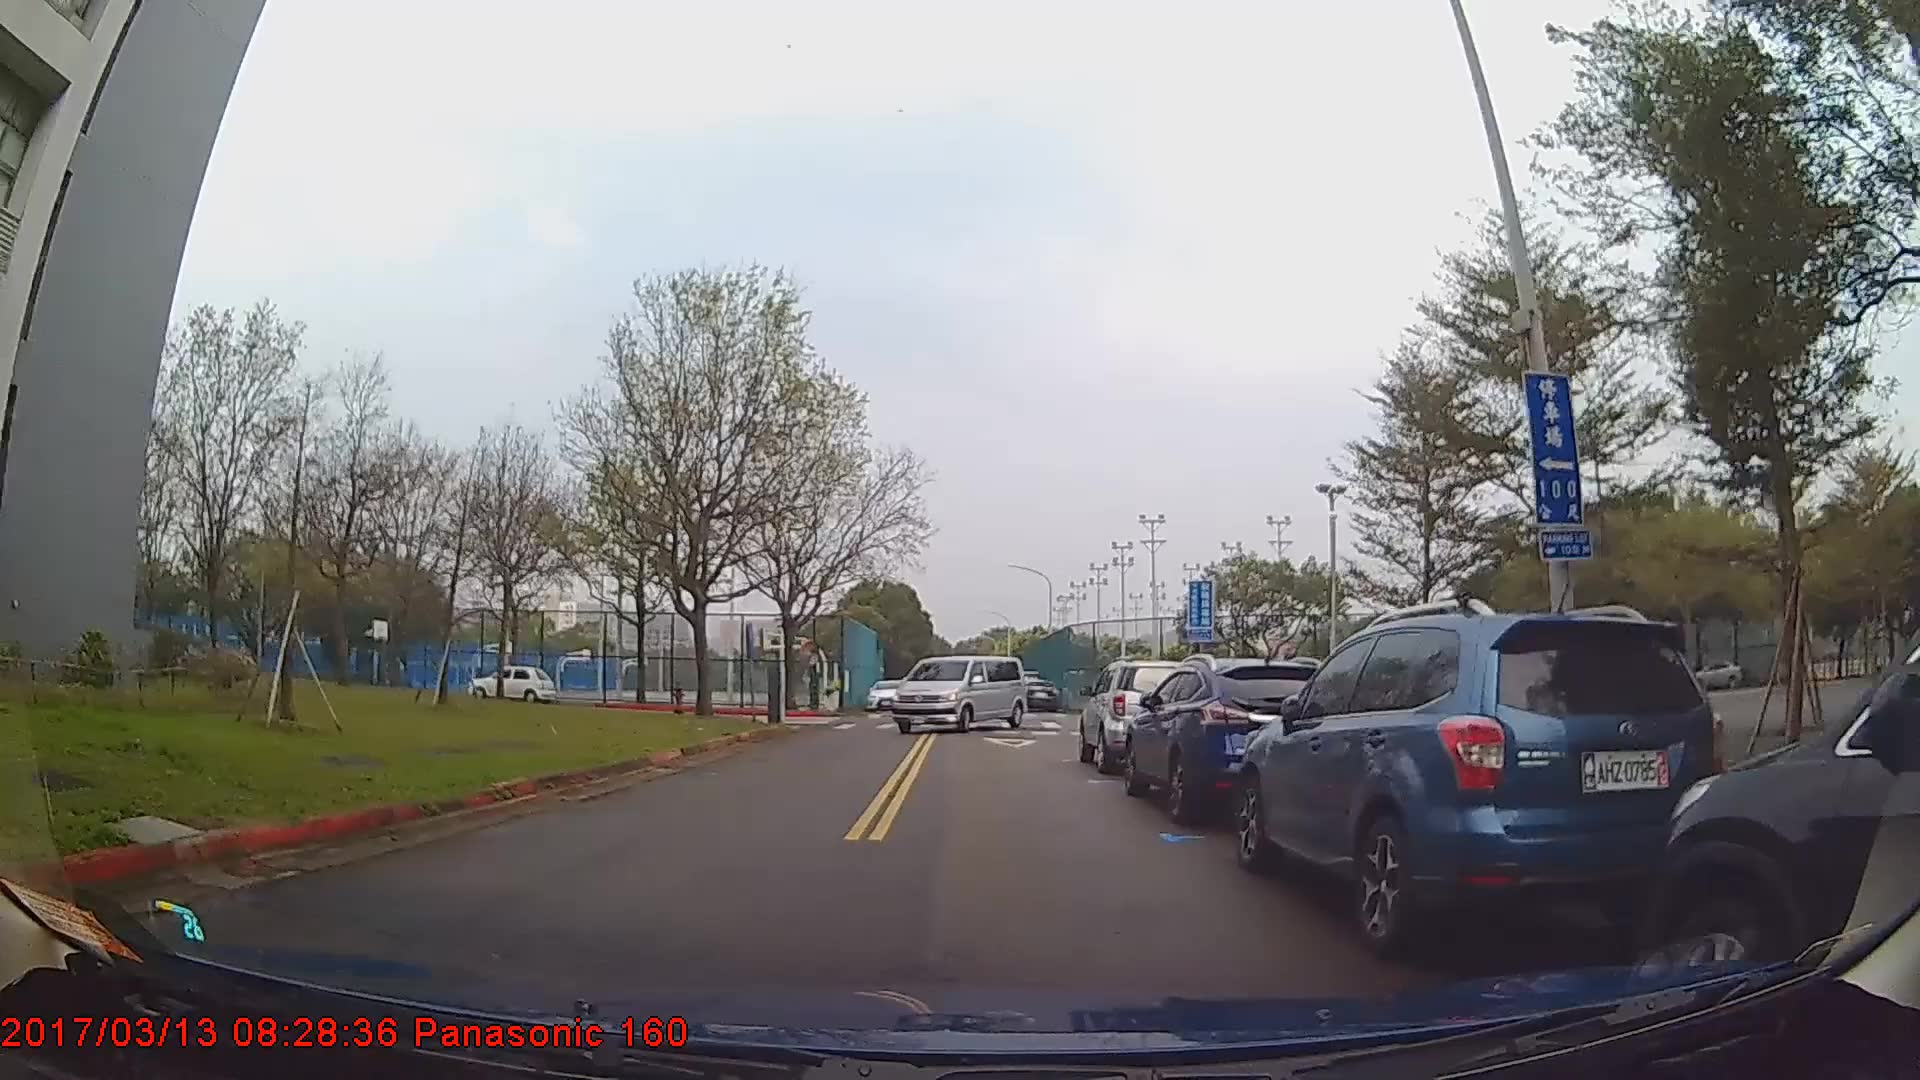vehicle: (1228, 613, 1727, 952), (1642, 633, 1920, 1017), (1122, 657, 1338, 824), (1080, 658, 1199, 771), (887, 653, 1026, 737), (471, 662, 556, 704), (1014, 675, 1060, 709), (865, 676, 905, 709)
